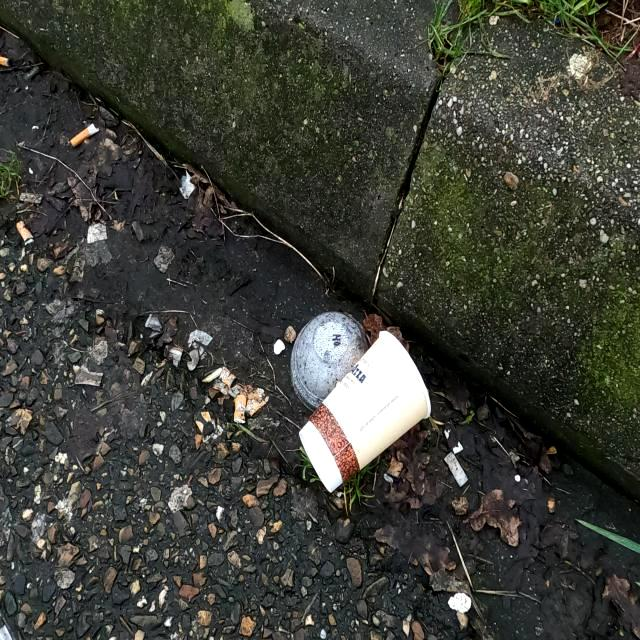Coffee Cup: (296, 328, 434, 496)
Paper: (290, 308, 372, 412)
